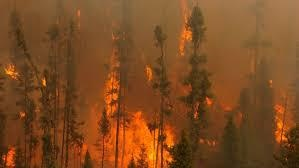fire: (272, 102, 291, 143), (3, 61, 18, 80)
